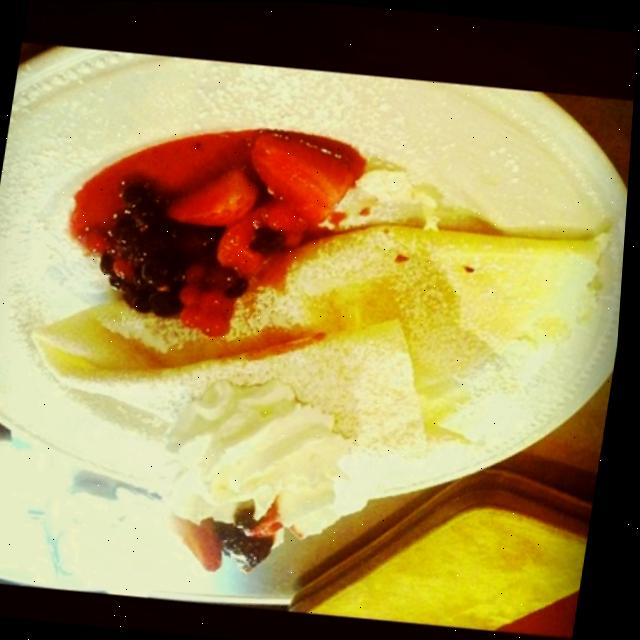蛋糕甜品: (4, 110, 630, 586)
